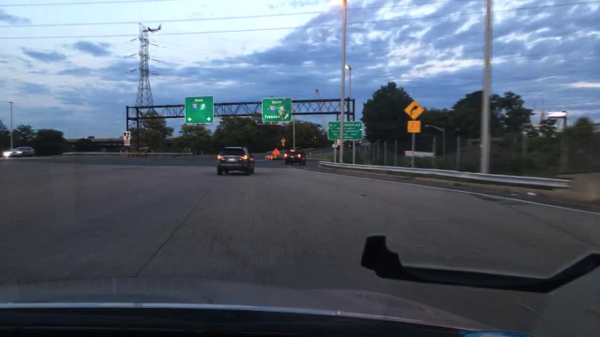car: (216, 146, 256, 177), (284, 148, 307, 166), (3, 146, 37, 158), (337, 143, 352, 150), (275, 150, 284, 159), (265, 150, 272, 160), (354, 141, 361, 146), (86, 135, 94, 139), (117, 135, 123, 139)
traffic sign: (184, 96, 214, 124), (262, 98, 292, 121), (328, 121, 361, 140), (403, 101, 425, 119), (405, 121, 421, 133), (271, 147, 279, 159), (123, 131, 132, 140), (124, 139, 131, 147), (279, 139, 287, 145)
